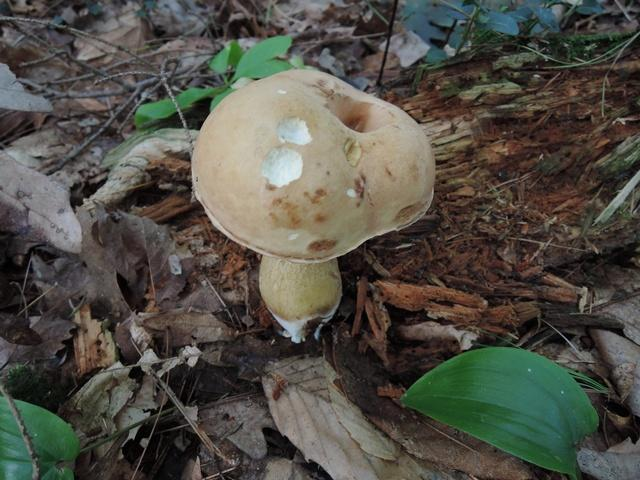Non-edible Mushroom: (188, 66, 436, 343)
